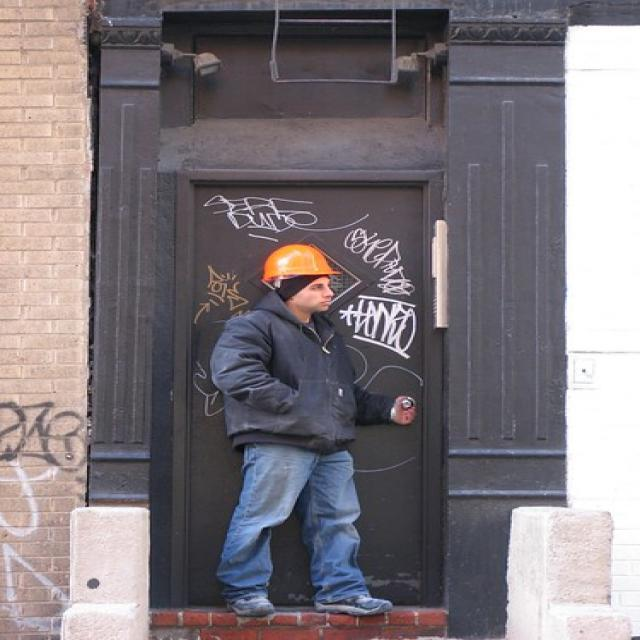safety_helmet: (254, 238, 344, 286)
